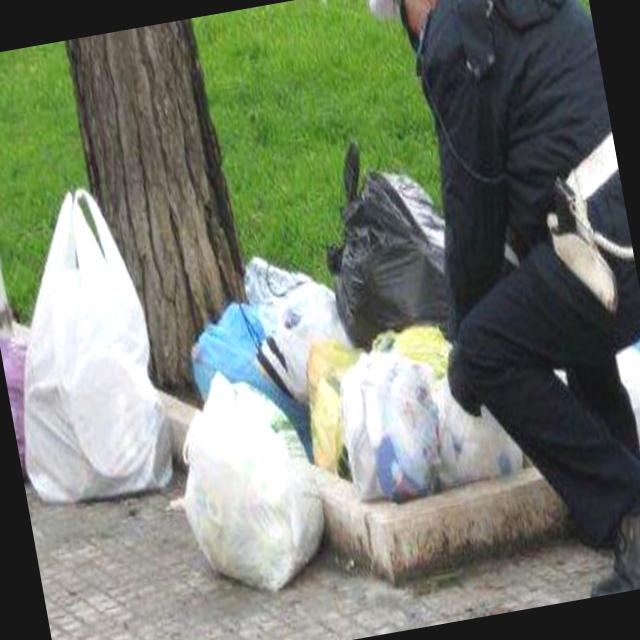garbage: (0, 107, 486, 640)
